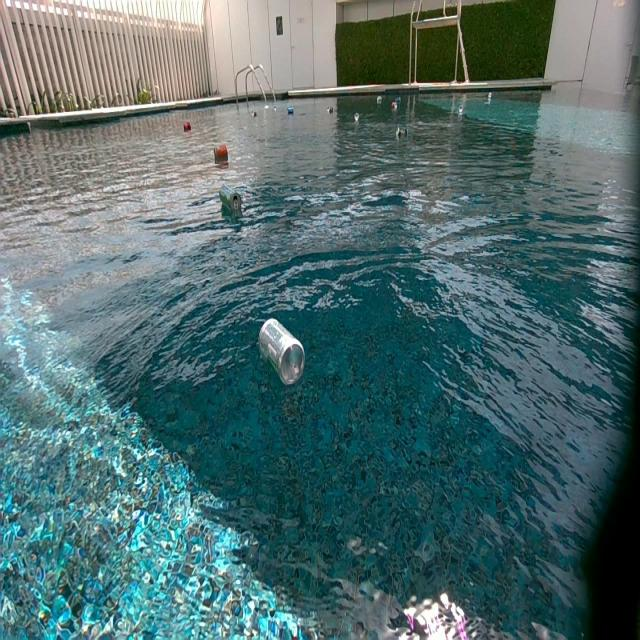Cans: (258, 317, 306, 387), (220, 187, 242, 212), (214, 144, 227, 158), (396, 128, 407, 141), (182, 120, 191, 132), (392, 99, 401, 108), (326, 106, 334, 115), (376, 97, 384, 106), (286, 107, 294, 115), (250, 110, 258, 118), (353, 112, 360, 121), (391, 101, 398, 110), (488, 92, 494, 101), (458, 104, 464, 112), (272, 108, 277, 114)
